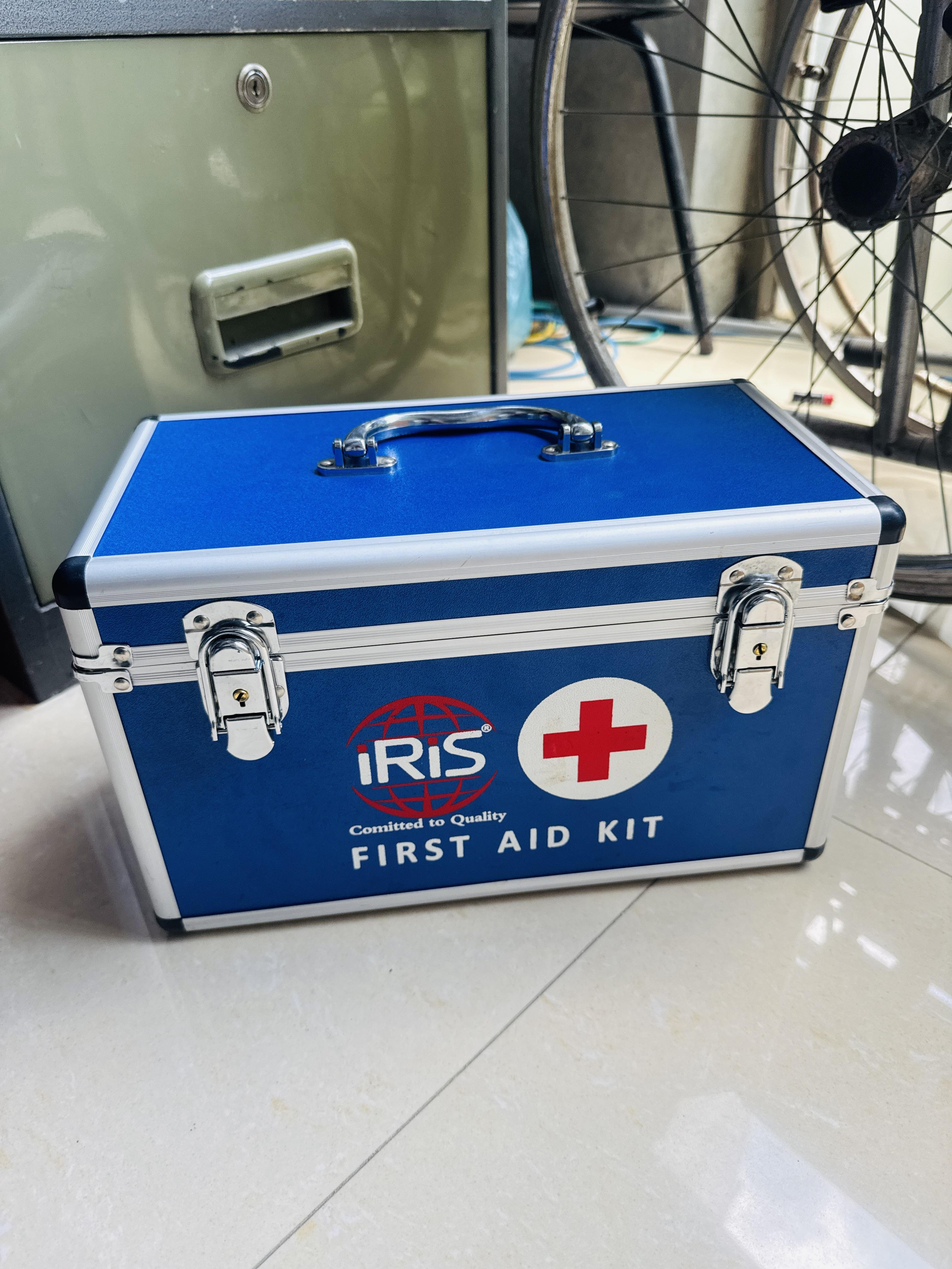FirstAidBox: (38, 385, 939, 931)
